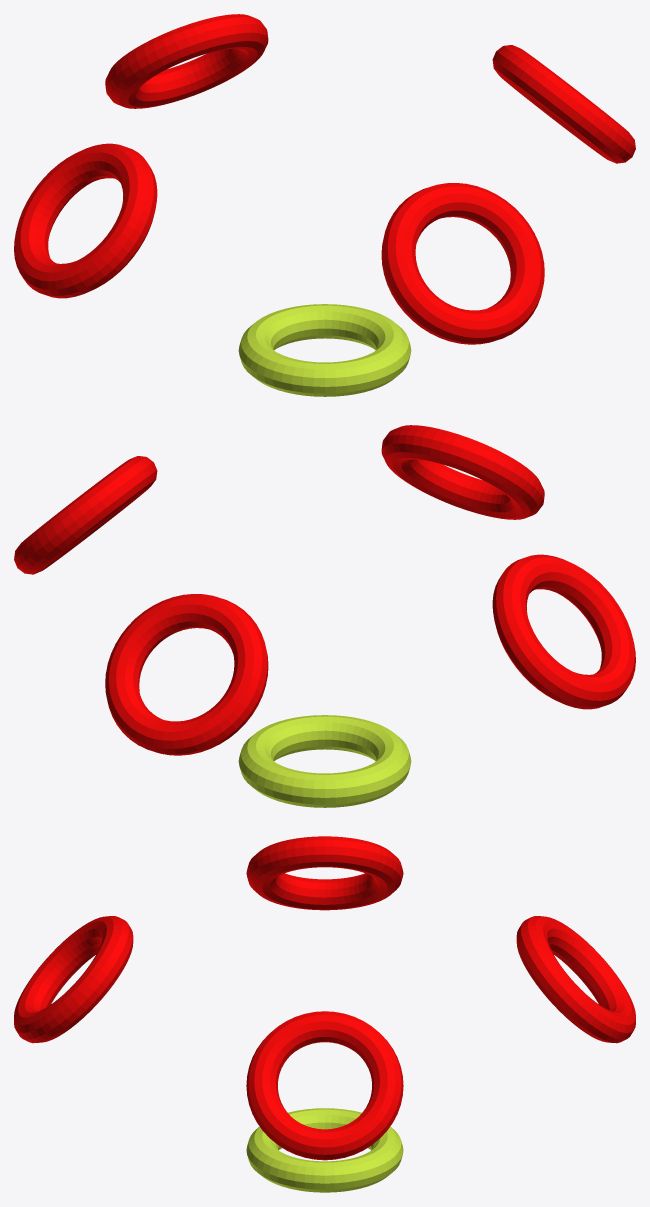
File: orbit_45_4.glb
3 renders of one model, top to bottom at view 1: azimuth 30°, elevation 25°; view 2: azimuth 150°, elevation 25°; view 3: azimuth 270°, elevation 25°, orthographic. The views are drawn at different scales.
Parts seen in each view (by area): view 1: Torus.002, Torus.004, Torus, Torus.001, Torus.003; view 2: Torus.001, Torus.004, Torus, Torus.002, Torus.003; view 3: Torus.003, Torus.004, Torus.001, Torus.002, Torus.
Boxes of the visible parts, x1,y1,x2,y2 form: Torus.002: (381, 183, 544, 344); Torus.004: (14, 143, 157, 298); Torus: (238, 304, 411, 396); Torus.001: (105, 14, 268, 108); Torus.003: (492, 45, 635, 163); Torus.001: (105, 594, 268, 755); Torus.004: (492, 554, 635, 709); Torus: (238, 715, 411, 807); Torus.002: (381, 425, 544, 519); Torus.003: (14, 456, 157, 574); Torus.003: (246, 1011, 403, 1160); Torus.004: (246, 836, 403, 910); Torus.001: (516, 916, 635, 1043); Torus.002: (14, 916, 133, 1043); Torus: (246, 1108, 403, 1192).
Size of the model in its own units: 2.47 by 1.05 by 2.47.
Materials: 5 (4 with a texture image).
